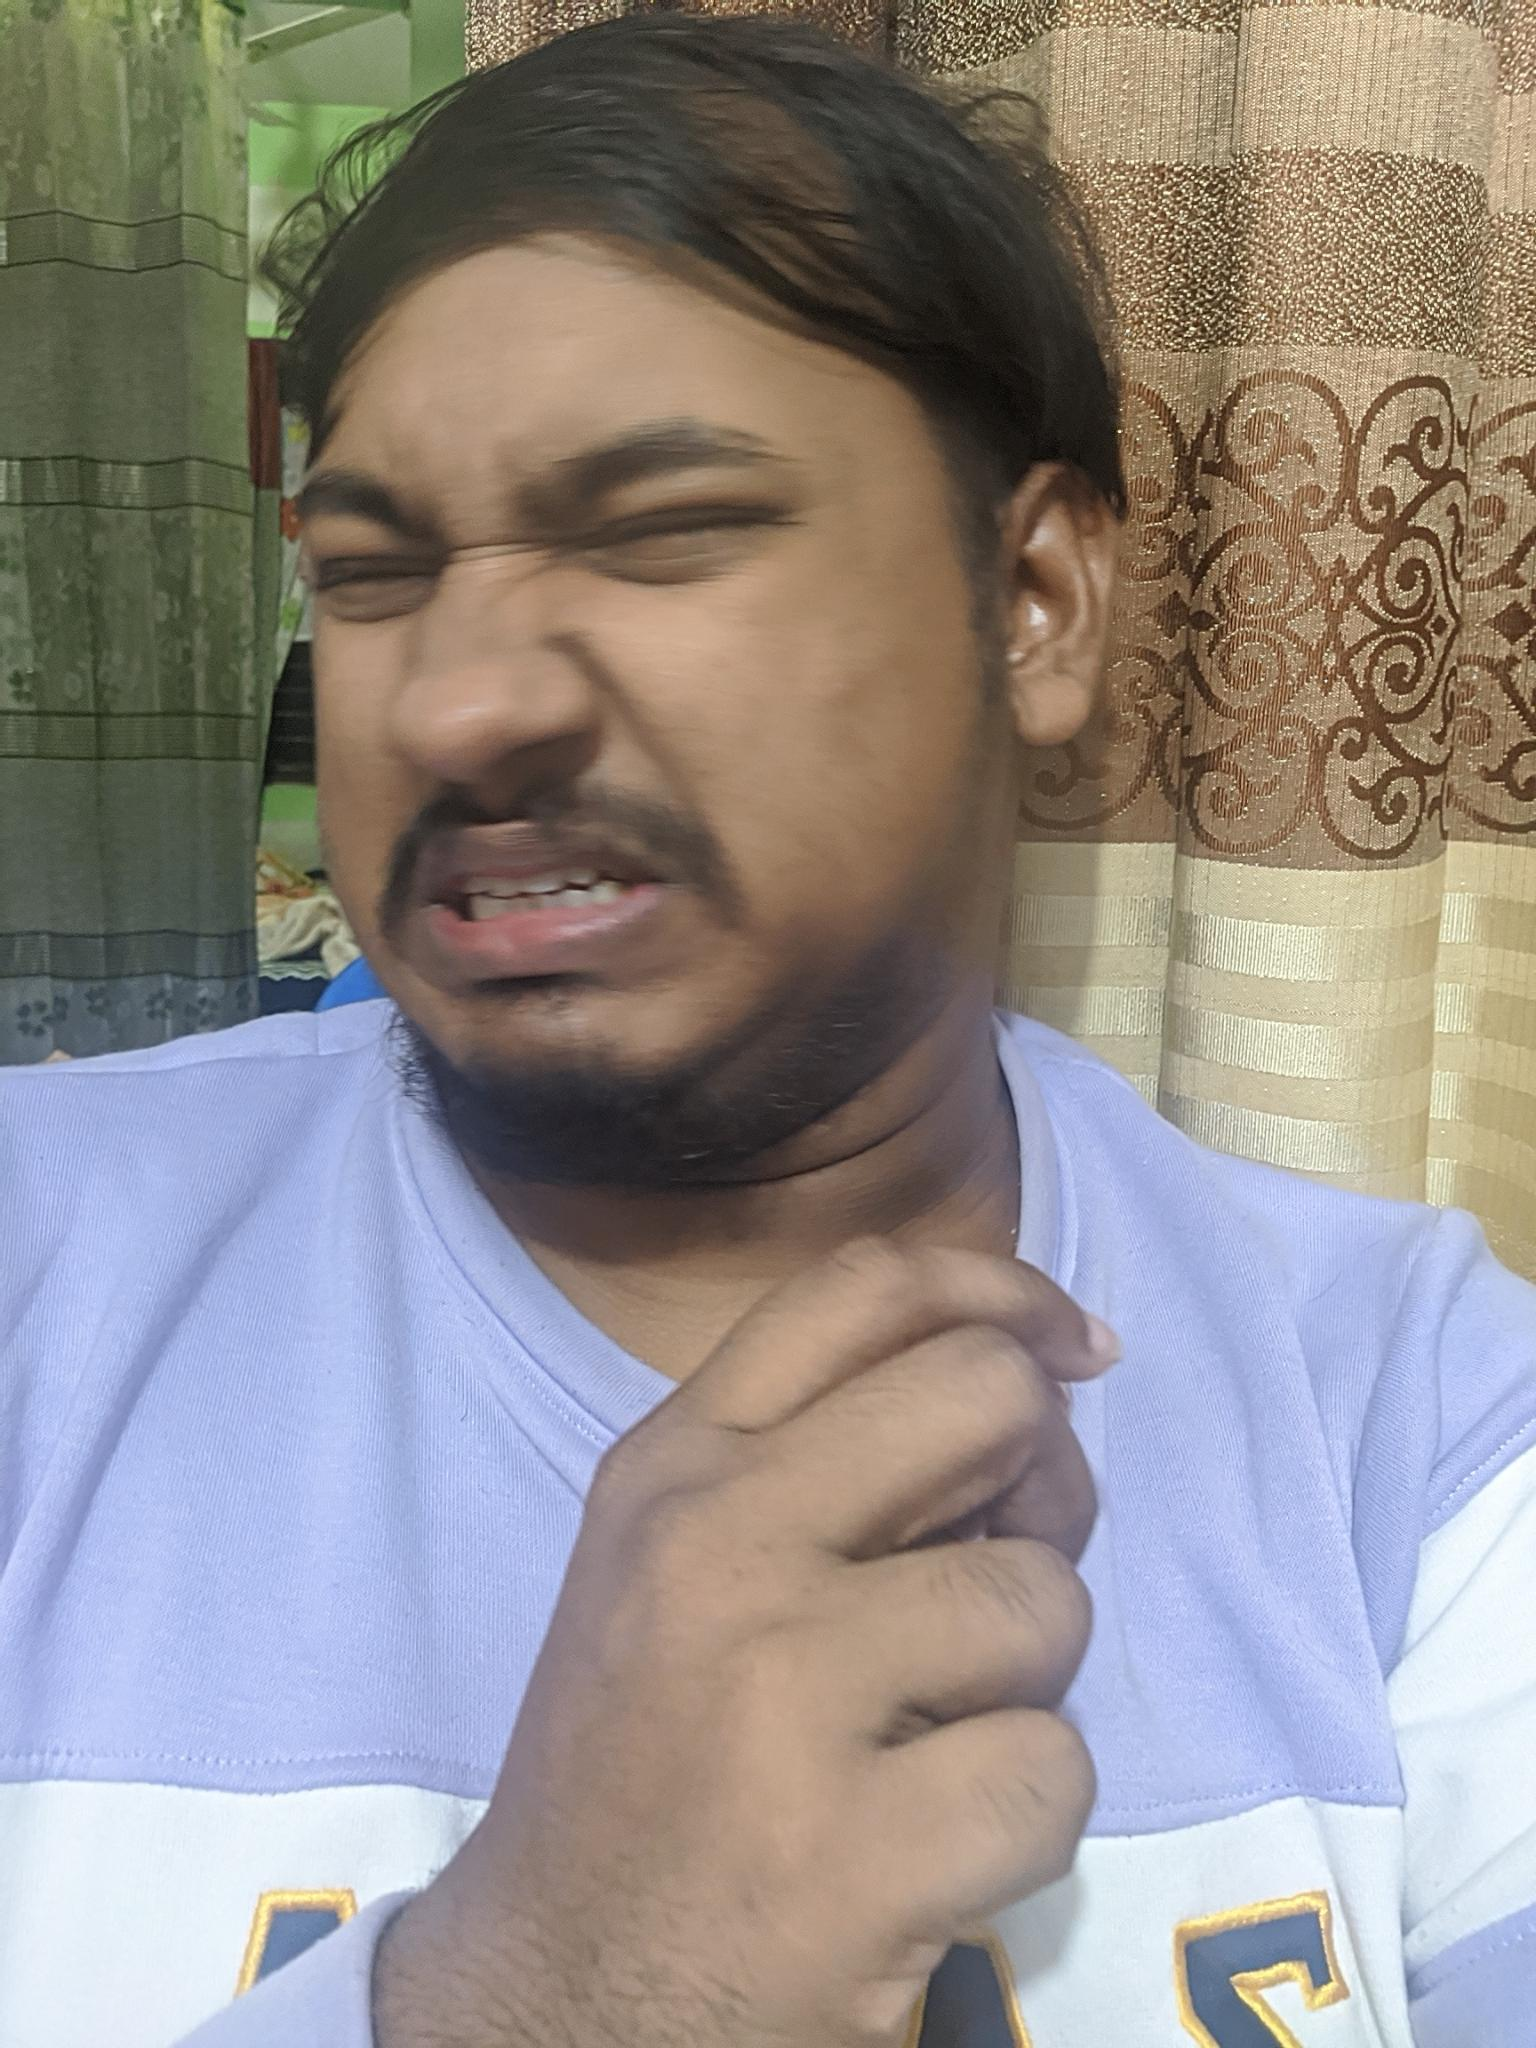Disgust: (227, 348, 902, 1134)
